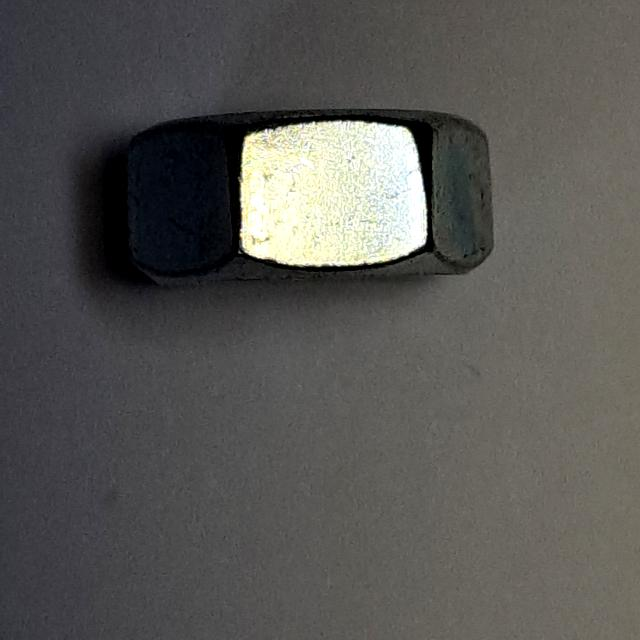Side_Excellent: (107, 94, 510, 315)
